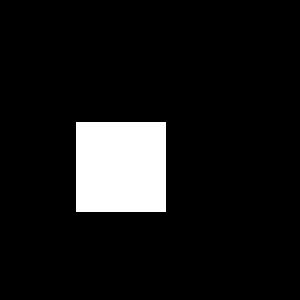circle: (76, 122, 166, 212)
